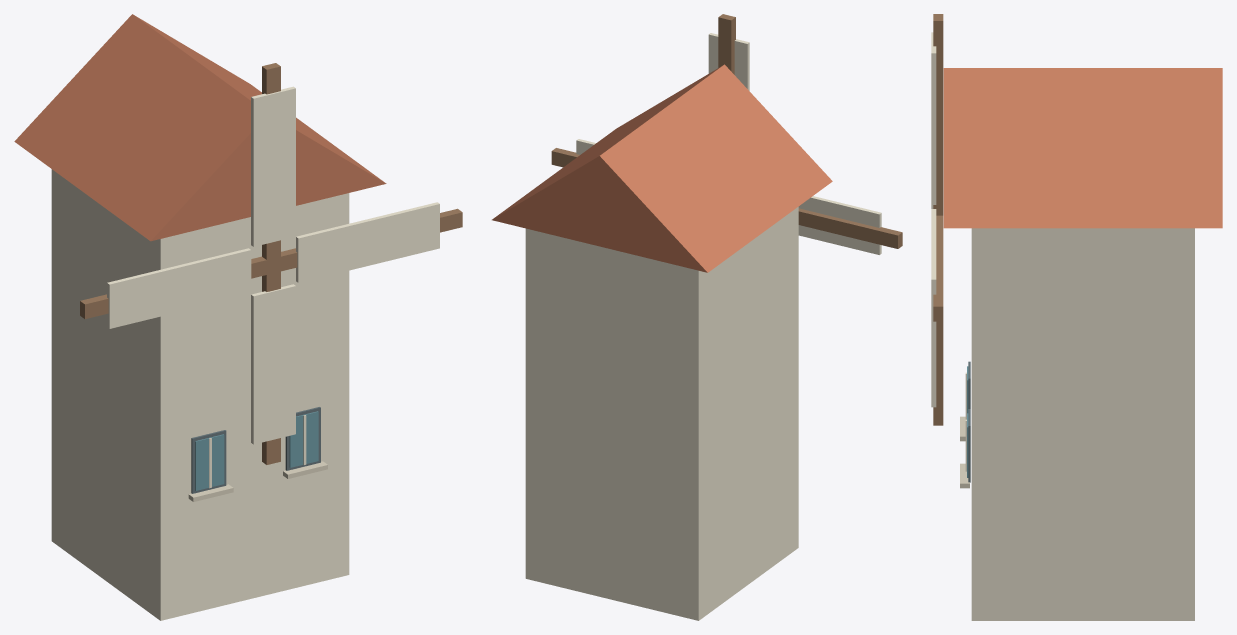
Rendered from windmill.glb.
The picture shows the model from 3 angles, left to right: view 1: azimuth 30°, elevation 25°; view 2: azimuth 150°, elevation 25°; view 3: azimuth 270°, elevation 25°; orthographic projection. The views are drawn at different scales.
Bounding box in the file's own units: 8 × 11 × 5.22.
